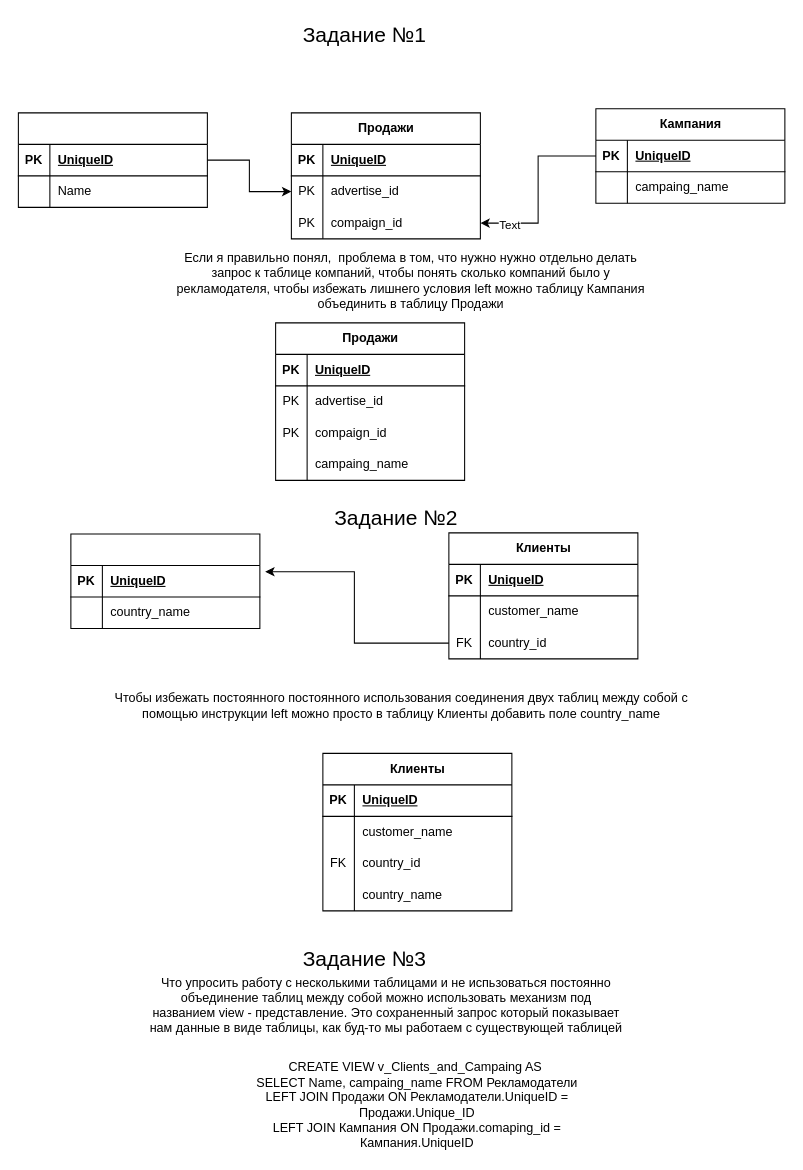
The diagram is 803 pixels wide and 1170 high, and some of its shapes have lost their labels. Here are the shapes that lost their labels. From the top down, the box of each, then its label:
(17, 112, 207, 207): Рекламодатели
(70, 533, 260, 628): Страны
